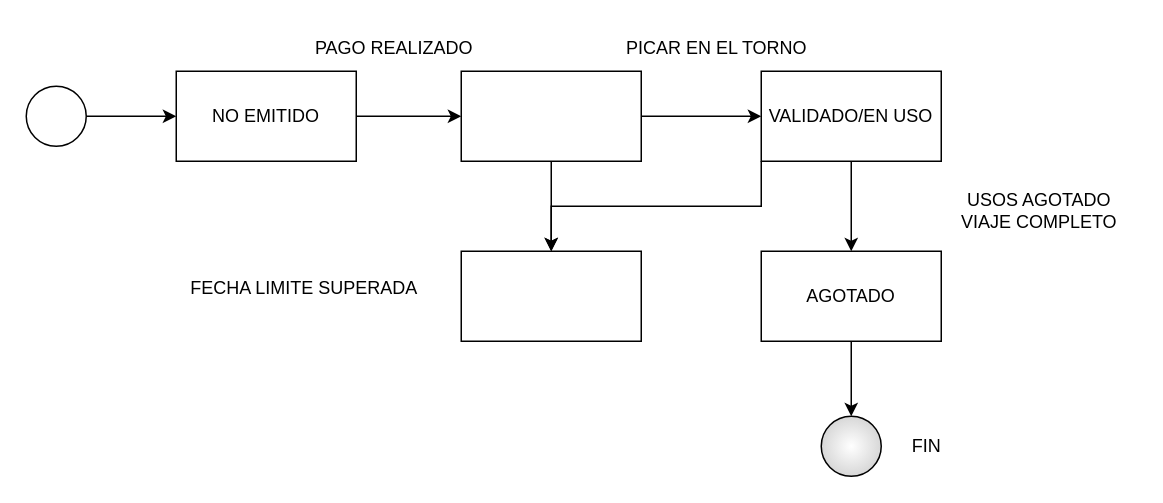
This 1163x503 diagram has some shape labels left out. The shapes that lost their labels are listed below. From the top down, each one's centre as x and y in pixels, then its label:
[550,115]: EMITIDO/ACTIVO
[550,295]: CADUCADO
